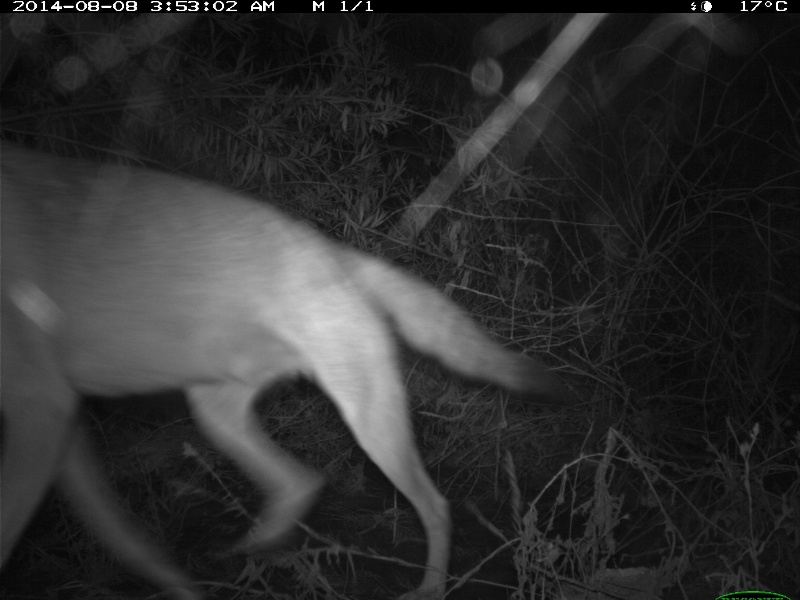coyote: (1, 125, 572, 598)
